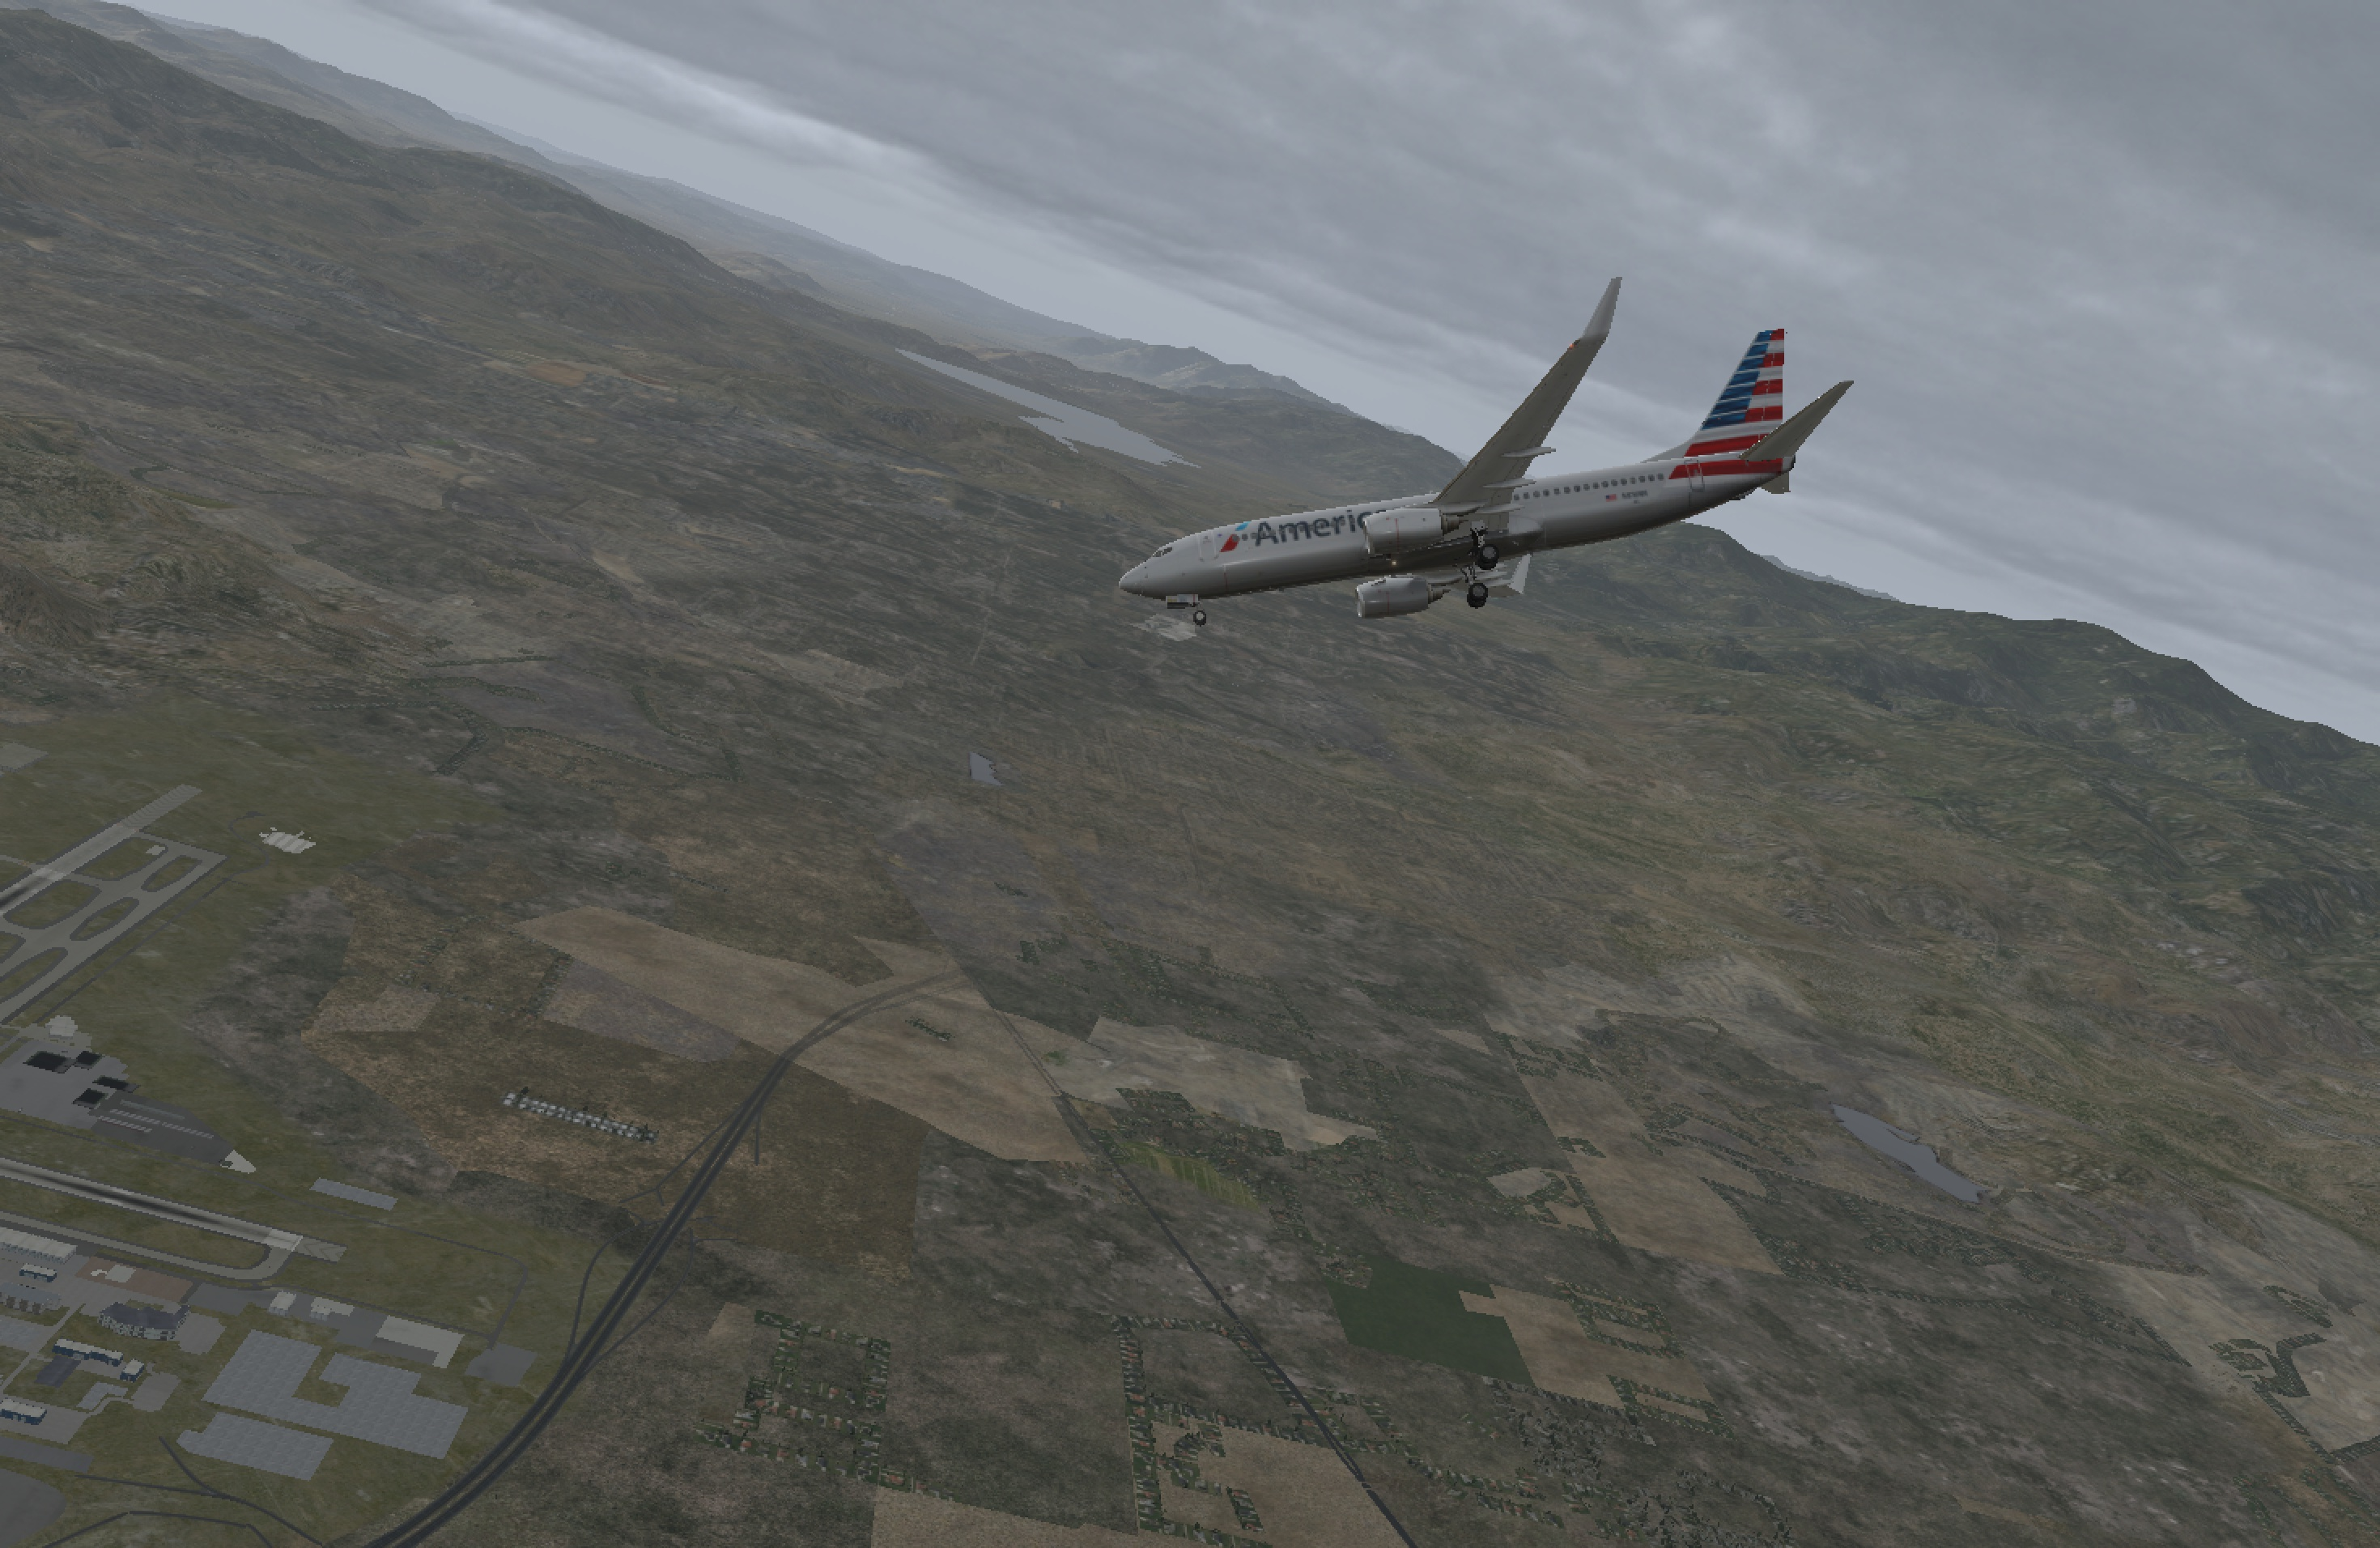aircraft: (1096, 406, 1801, 672)
